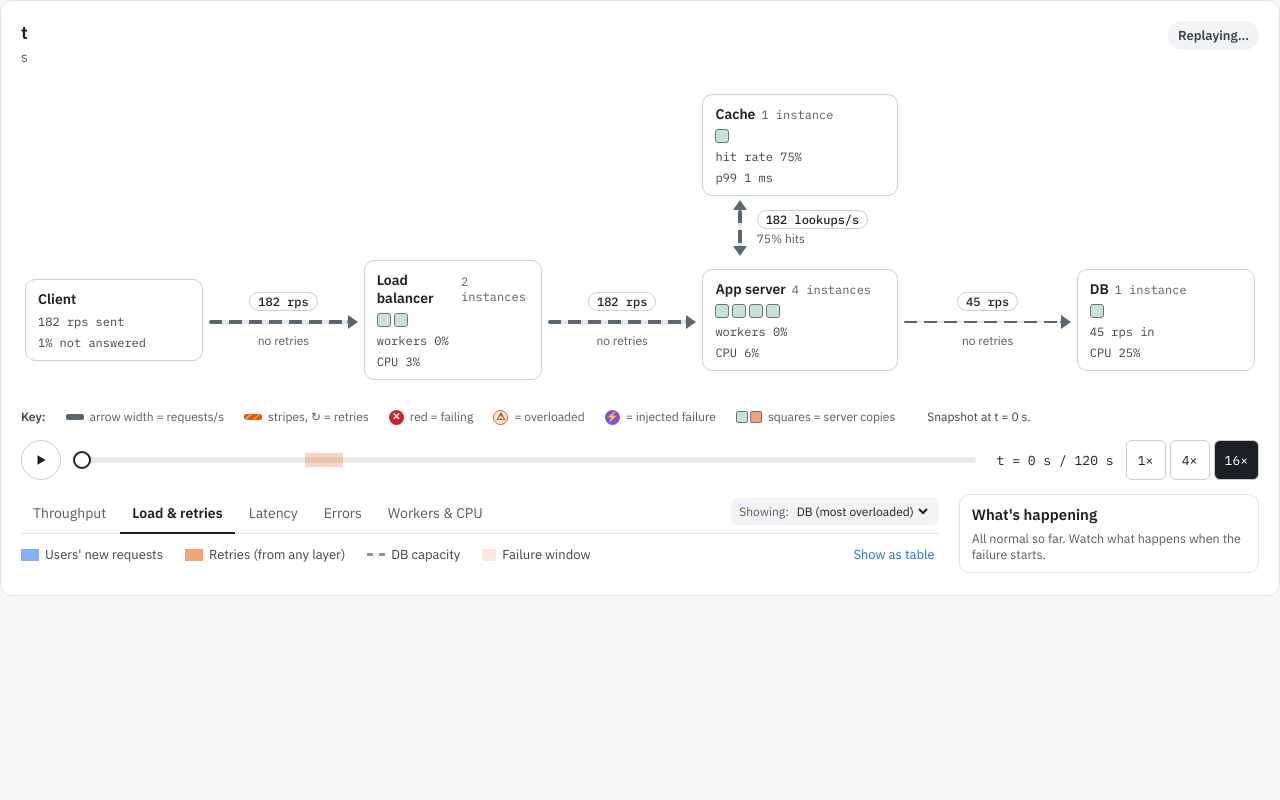
Test: RunPlayer › starts on Load & retries, names the tier each tab really shows, and scopes charts with the Showing dropdown
The image size is (1280, 800).
Click the button "Latency".
click(273, 514)  # box [237,494,310,534]
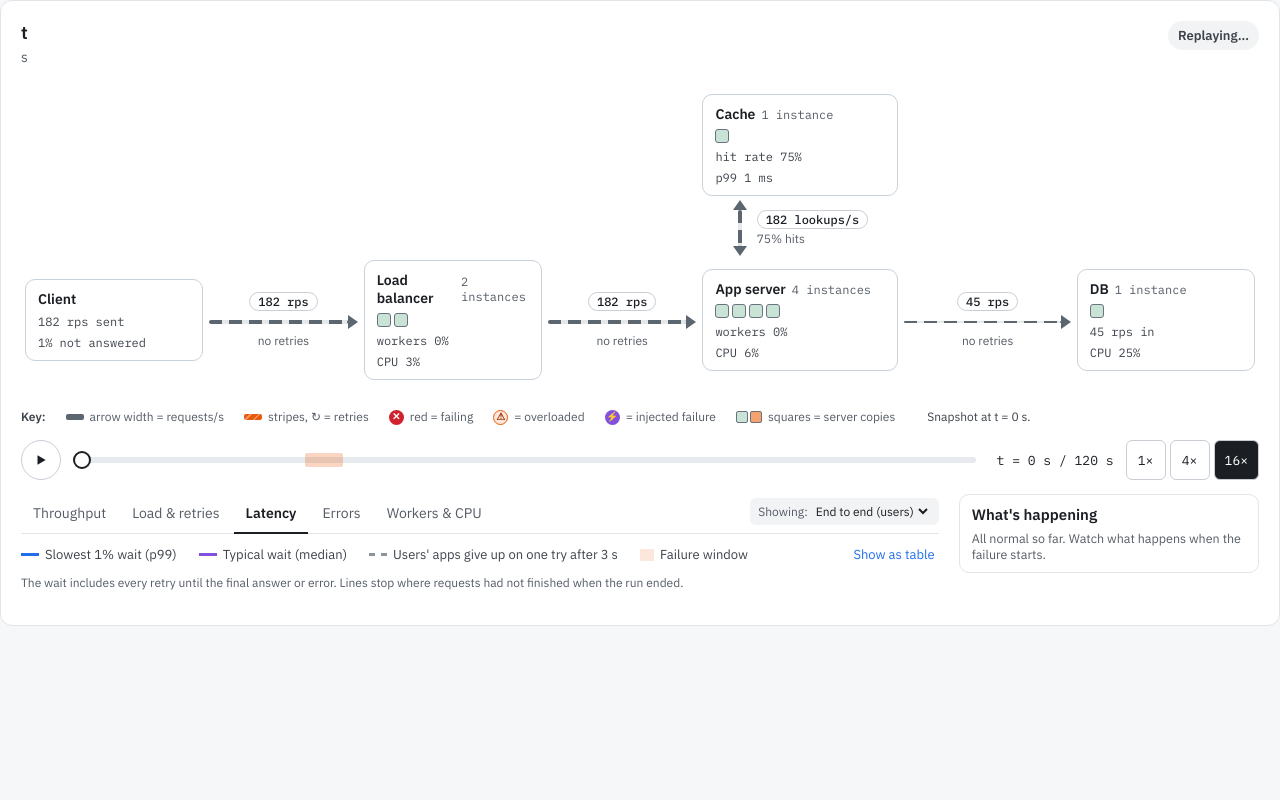
Check: the list item "Users' apps give up on one try after 3 s" is shown, box [369,546,618,563]
Check: the text "The wait includes every retry" is shown, box [21,575,683,590]
Select "DB" in the dropdown named "Show metrics for" at (869, 512), box [808,501,931,522]
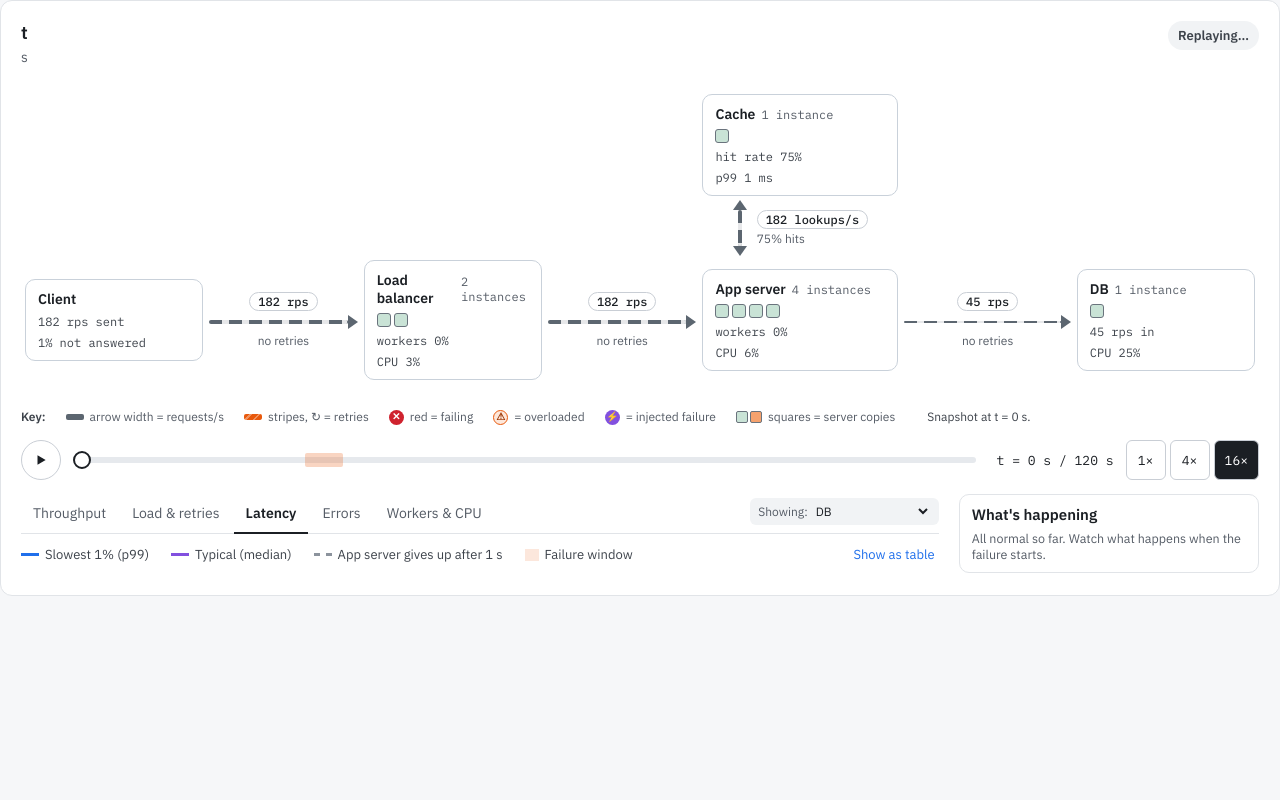
Check: the list item "App server gives up after 1 s" is shown, box [314,546,502,563]
Select "End to end (users)" in the dropdown named "Show metrics for" at (869, 512), box [808,501,931,522]
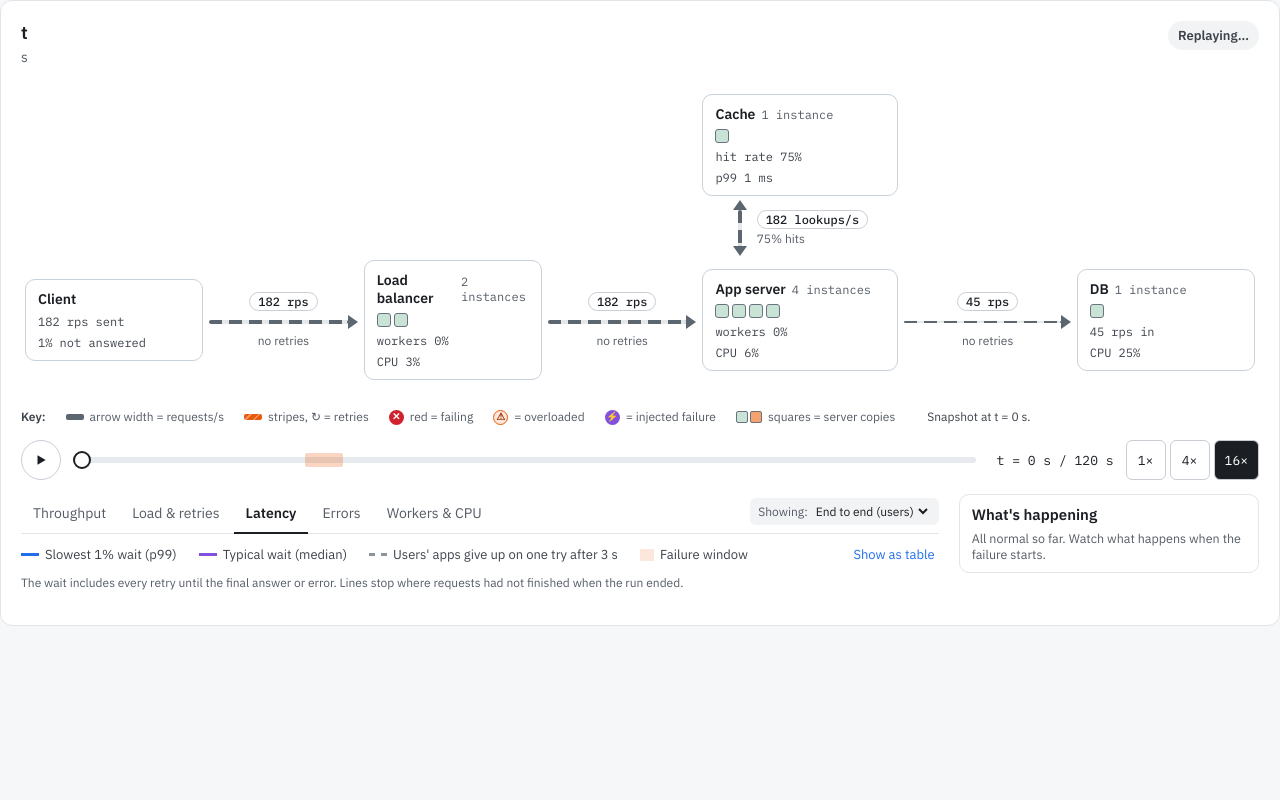
Check: the list item "Users' apps give up on one try after 3 s" is shown, box [369,546,618,563]
